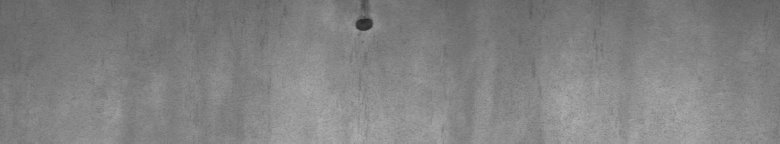fi: (348, 4, 380, 40)
